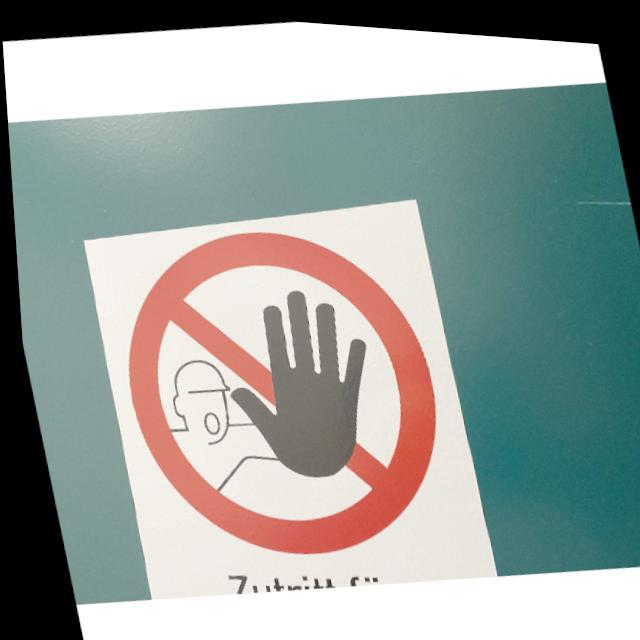No access for unauthorized persons: (94, 197, 462, 579)
